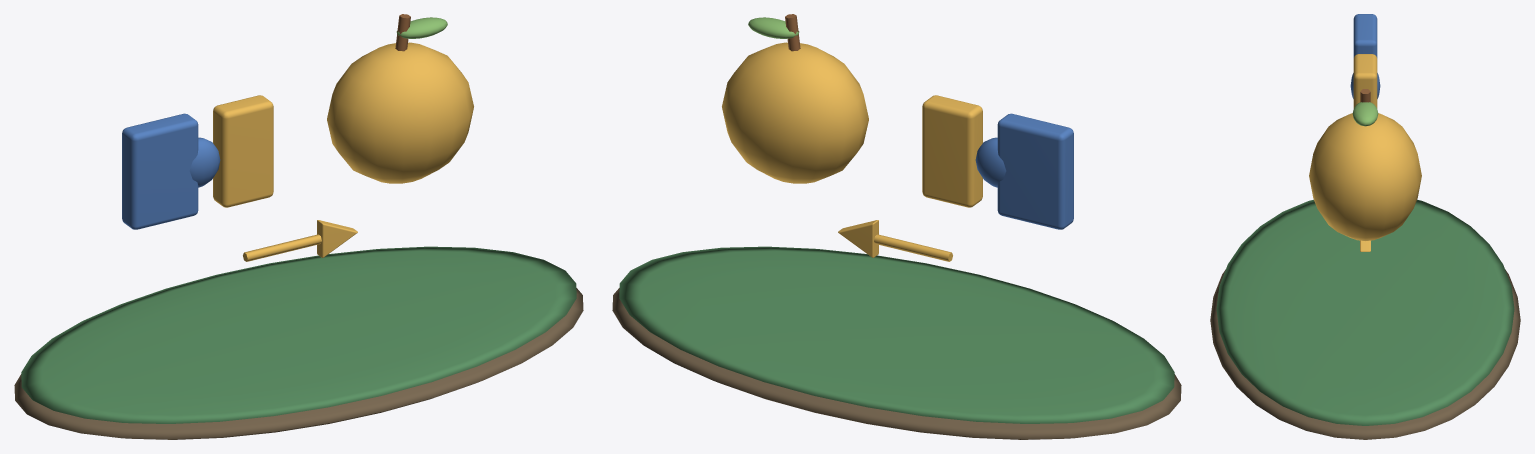
Rendered from complete-second-effect-fruit.glb.
The picture shows the model from 3 angles, left to right: view 1: azimuth 30°, elevation 25°; view 2: azimuth 150°, elevation 25°; view 3: azimuth 270°, elevation 25°; orthographic projection. The views are drawn at different scales.
Parts seen in each view (by area): view 1: complete-second-effect-fruit_surface_01, complete-second-effect-fruit_surface_03, complete-second-effect-fruit_surface_00, complete-second-effect-fruit_surface_02, complete-second-effect-fruit_surface_05; view 2: complete-second-effect-fruit_surface_01, complete-second-effect-fruit_surface_03, complete-second-effect-fruit_surface_00, complete-second-effect-fruit_surface_02, complete-second-effect-fruit_surface_05; view 3: complete-second-effect-fruit_surface_01, complete-second-effect-fruit_surface_03, complete-second-effect-fruit_surface_00, complete-second-effect-fruit_surface_02, complete-second-effect-fruit_surface_05.
Part boxes in pixels (x1,y1,x2,y2): complete-second-effect-fruit_surface_01: (21, 246, 576, 423); complete-second-effect-fruit_surface_03: (213, 42, 473, 261); complete-second-effect-fruit_surface_00: (14, 288, 583, 439); complete-second-effect-fruit_surface_02: (122, 113, 220, 229); complete-second-effect-fruit_surface_05: (396, 17, 447, 38); complete-second-effect-fruit_surface_01: (619, 246, 1174, 423); complete-second-effect-fruit_surface_03: (722, 42, 982, 261); complete-second-effect-fruit_surface_00: (612, 288, 1181, 439); complete-second-effect-fruit_surface_02: (975, 113, 1073, 229); complete-second-effect-fruit_surface_05: (748, 17, 799, 38); complete-second-effect-fruit_surface_01: (1216, 199, 1514, 425); complete-second-effect-fruit_surface_03: (1309, 54, 1421, 251); complete-second-effect-fruit_surface_00: (1210, 269, 1520, 439); complete-second-effect-fruit_surface_02: (1350, 14, 1380, 98); complete-second-effect-fruit_surface_05: (1352, 102, 1378, 126).
Bounding box in the file's own units: 4.56 × 2.58 × 2.5.
